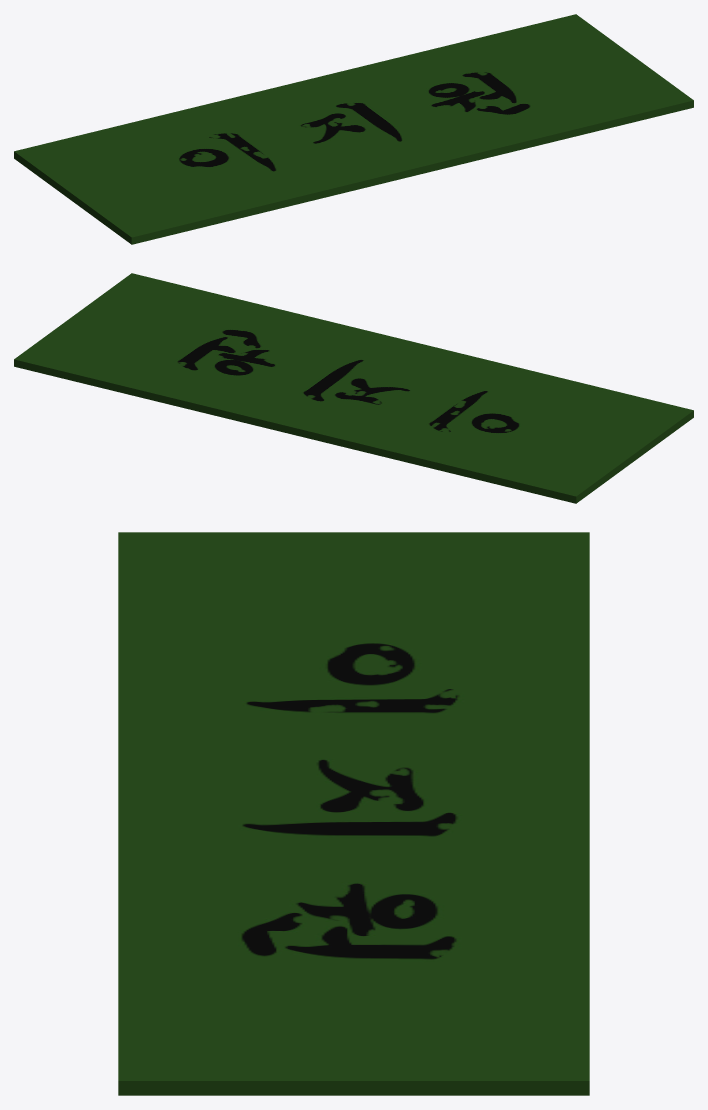
The model's file is M_NameTag02.fbx.
3 renders of one model, top to bottom at view 1: azimuth 30°, elevation 25°; view 2: azimuth 150°, elevation 25°; view 3: azimuth 270°, elevation 25°, orthographic. The views are drawn at different scales.
Parts seen in each view (by area): view 1: nametag2_2_GEO, nametag2_1_GEO, nametag2_3_GEO; view 2: nametag2_1_GEO, nametag2_2_GEO, nametag2_3_GEO; view 3: nametag2_2_GEO, nametag2_1_GEO, nametag2_3_GEO.
Part boxes in pixels (x1=…): nametag2_2_GEO: x1=232, y1=62, x2=570, y2=200; nametag2_1_GEO: x1=14, y1=98, x2=313, y2=244; nametag2_3_GEO: x1=379, y1=14, x2=693, y2=137; nametag2_1_GEO: x1=358, y1=366, x2=693, y2=503; nametag2_2_GEO: x1=210, y1=303, x2=511, y2=450; nametag2_3_GEO: x1=14, y1=273, x2=254, y2=414; nametag2_2_GEO: x1=118, y1=710, x2=589, y2=960; nametag2_1_GEO: x1=118, y1=532, x2=589, y2=744; nametag2_3_GEO: x1=118, y1=889, x2=589, y2=1095.
Bounding box in the file's own units: 5.44 × 0.0672 × 1.97.
1 material, 1 textured.
